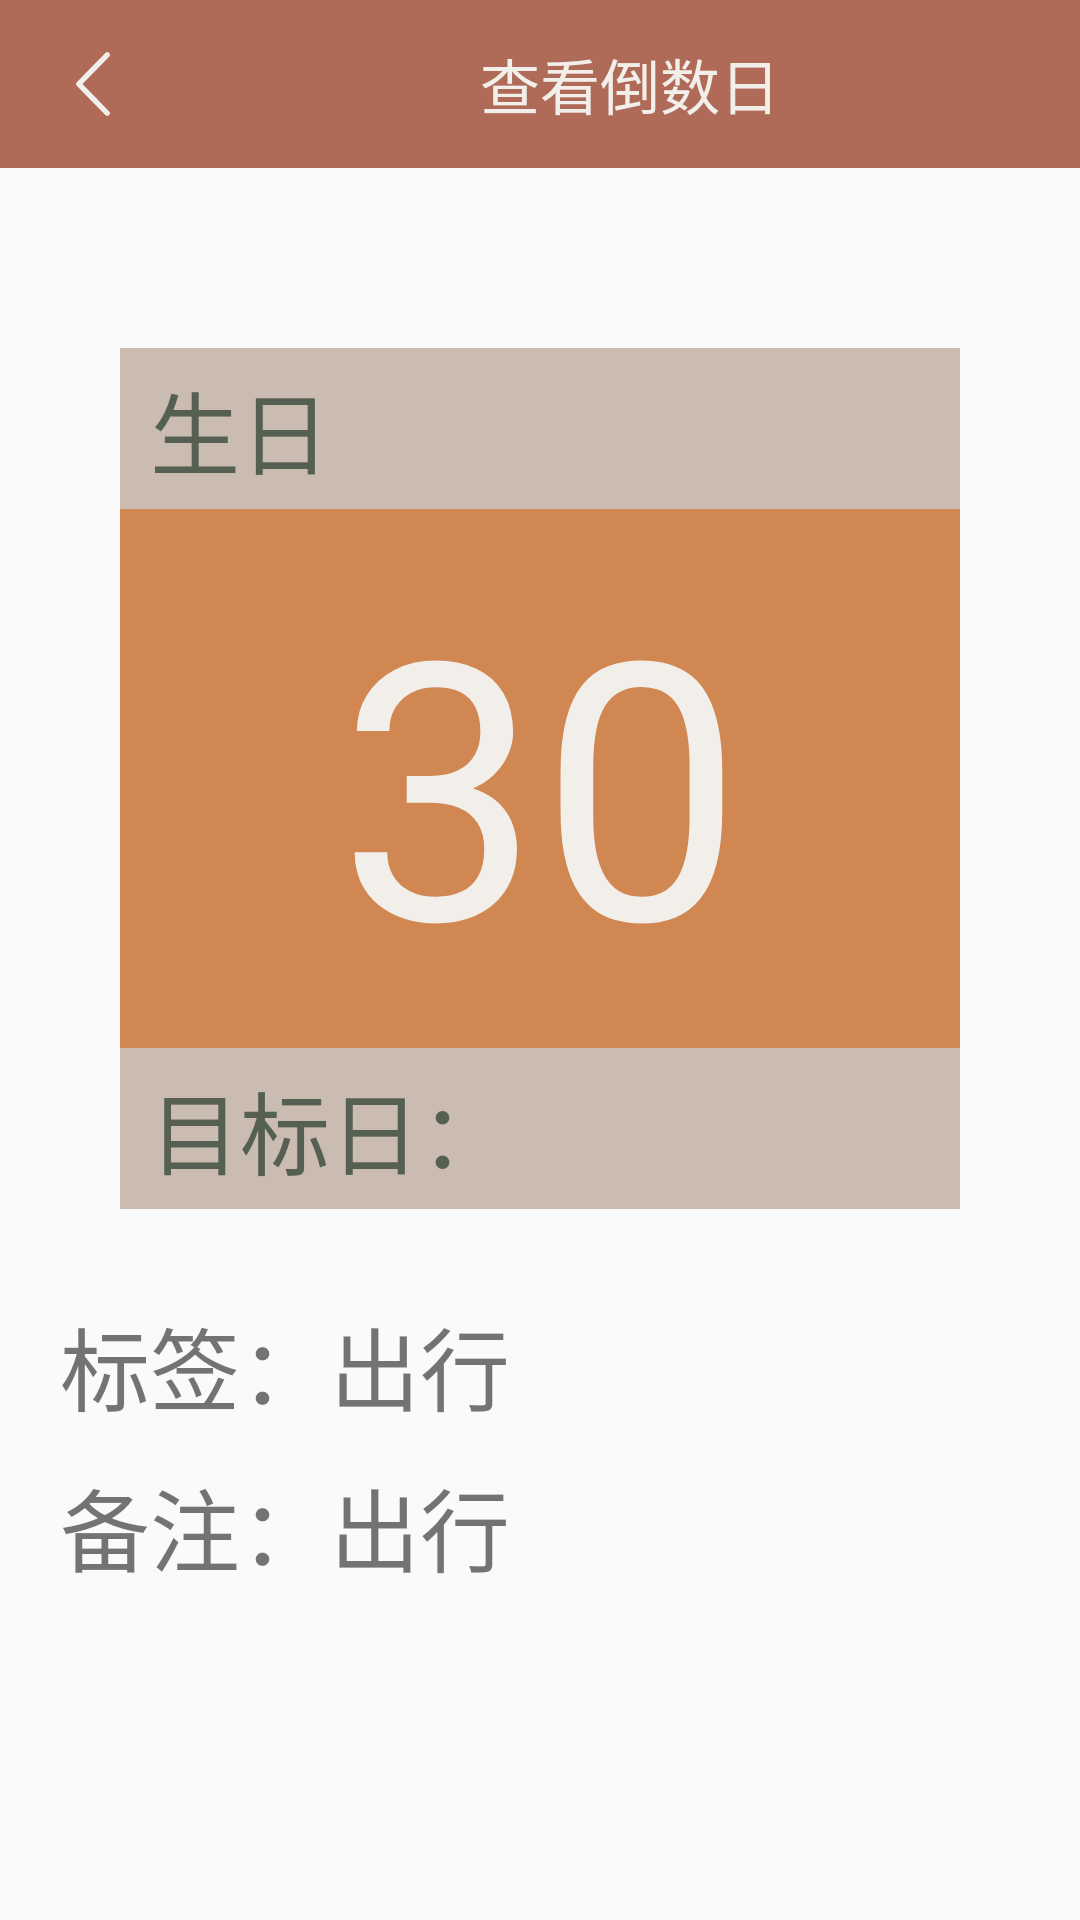

Point at icon controls on the screen. Image size 1080 × 1920, points as (x=x, y=y).
return: (x=93, y=84)
